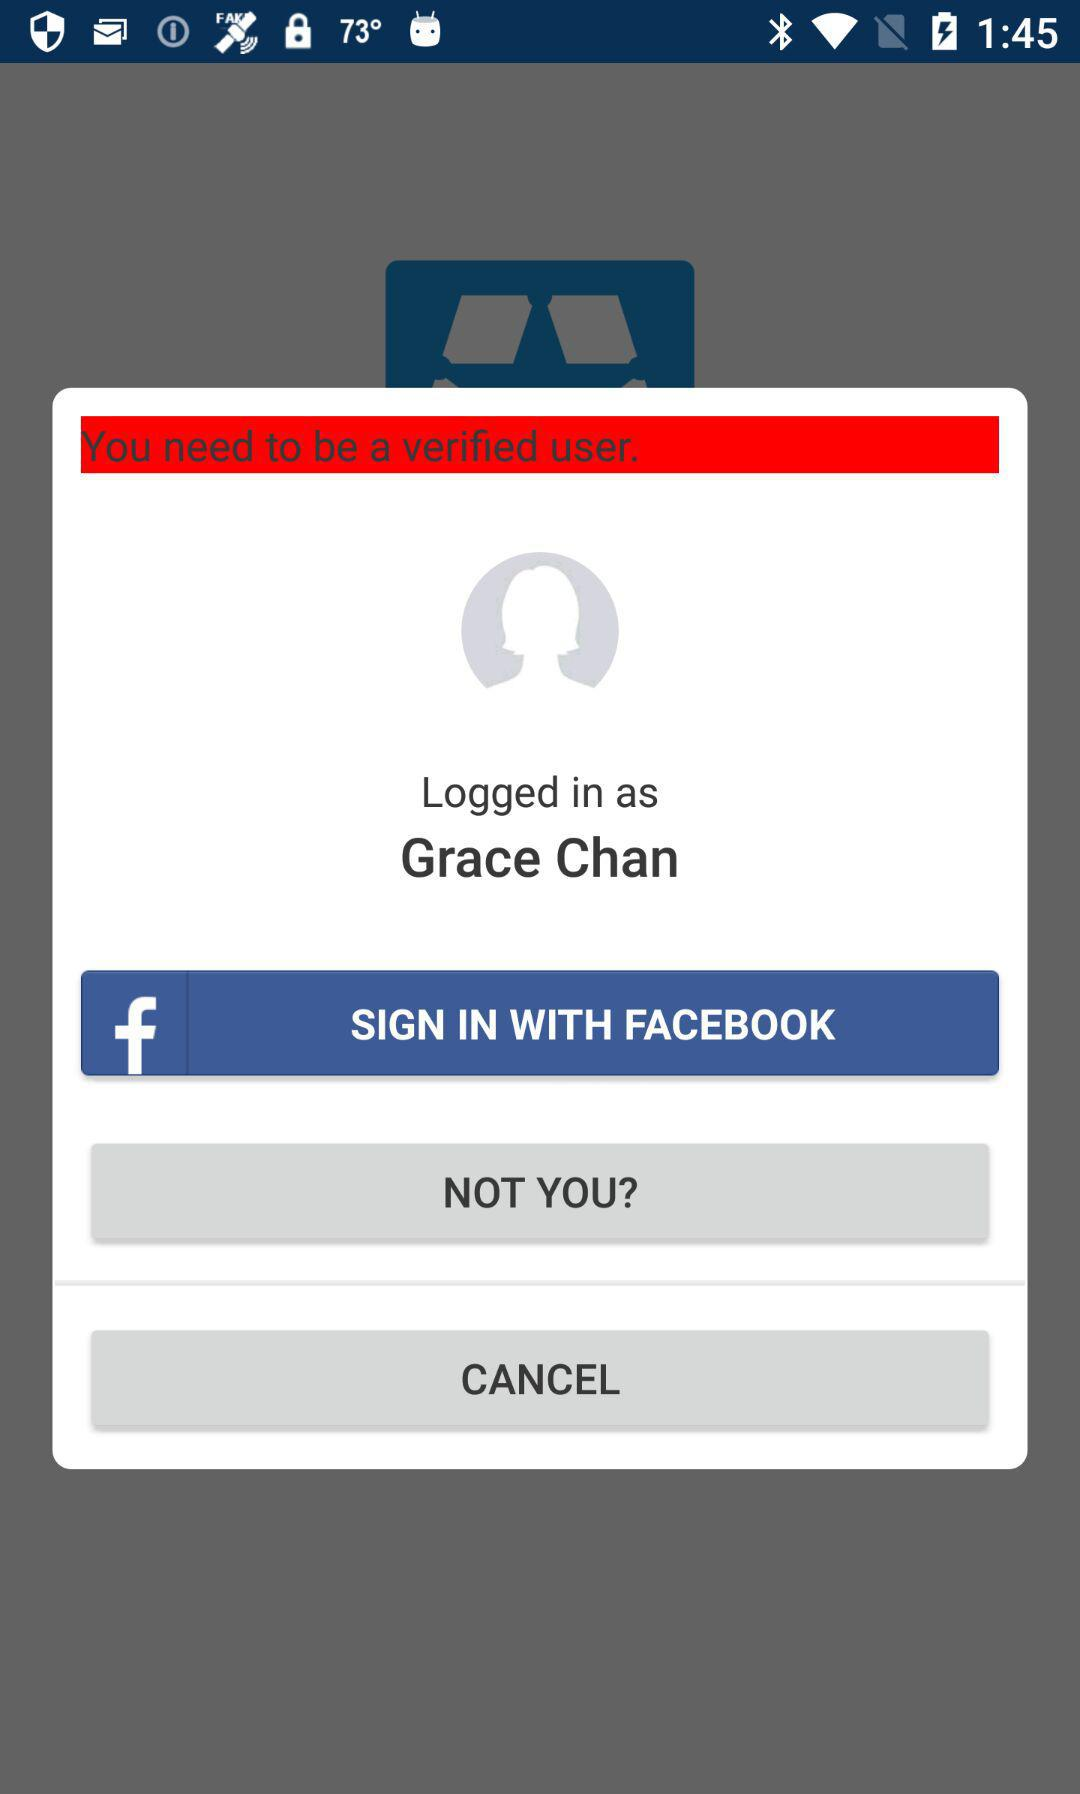Icon: (464, 554, 618, 710)
Modal: (53, 388, 1027, 1470)
Text: (83, 431, 637, 464), (401, 833, 682, 891), (421, 764, 659, 818)
TextButton: (81, 970, 1001, 1076), (90, 1330, 990, 1433), (91, 1143, 990, 1246)
UpperTaskBar: (1, 1, 1080, 64)
